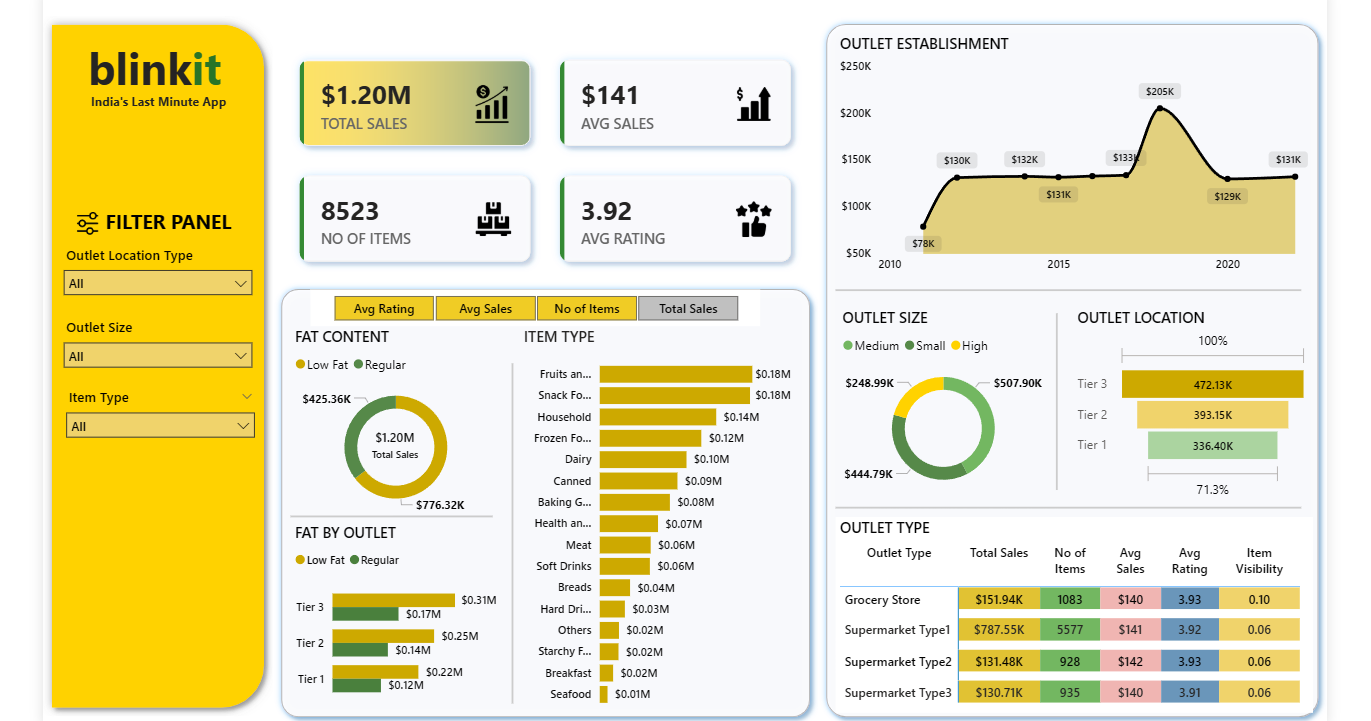

The dashboard page shown, as its layout file describes it:
{"tool":"powerbi","page":{"name":"Page 1","canvas":[1400,800],"ordinal":0},"visuals":[{"type":"shape","box":[0,26,250.7,764.4],"z":0},{"type":"textbox","box":[20.5,45,203.1,81.8],"z":1000},{"type":"textbox","box":[38.2,105,175.9,35.4],"z":2000},{"type":"cardVisual","fields":{"Data":["BlinkIT Grocery Data.Total Sales","BlinkIT Grocery Data.Avg Sales","BlinkIT Grocery Data.No of Items","BlinkIT Grocery Data.Avg Rating"]},"box":[250.7,45.2,594.5,279.5],"z":3000},{"type":"shape","box":[250.7,315.1,594.5,484.9],"z":4000},{"type":"donutChart","title":"FAT CONTENT","fields":{"Y":["BlinkIT Grocery Data.Total Sales"],"Category":["BlinkIT Grocery Data.Item Fat Content"]},"box":[269.9,364.4,230.1,213.7],"z":5000},{"type":"slicer","fields":{"Values":["Metrics.Metrics"]},"box":[291.8,324.7,490.4,39.7],"z":6000},{"type":"cardVisual","fields":{"Data":["BlinkIT Grocery Data.Total Sales"]},"box":[295.9,446.6,176.7,93.2],"z":7000},{"type":"clusteredBarChart","title":"FAT BY OUTLET","fields":{"Y":["BlinkIT Grocery Data.Total Sales"],"Category":["BlinkIT Grocery Data.Outlet Location Type"],"Series":["BlinkIT Grocery Data.Item Fat Content"]},"box":[269.9,578.1,230.1,208.2],"z":8000},{"type":"shape","box":[269.9,561.6,220.5,20.5],"z":9000},{"type":"shape","box":[490.4,405.5,42.5,371.2],"z":10000},{"type":"barChart","title":"ITEM TYPE","fields":{"Y":["BlinkIT Grocery Data.Total Sales"],"Category":["BlinkIT Grocery Data.Item Type"]},"box":[519.2,364.4,301.4,426],"z":11000},{"type":"shape","box":[845.2,26,554.8,774],"z":12000},{"type":"lineChart","title":"OUTLET ESTABLISHMENT","fields":{"Category":["BlinkIT Grocery Data.Outlet Establishment Year"],"Y":["BlinkIT Grocery Data.Total Sales"]},"box":[864.4,45.2,520.5,269.9],"z":13000},{"type":"shape","box":[864.4,315.1,508.2,20.5],"z":14000},{"type":"donutChart","title":"OUTLET SIZE","fields":{"Y":["BlinkIT Grocery Data.Total Sales"],"Category":["BlinkIT Grocery Data.Outlet Size"]},"box":[867.1,343.8,230.1,213.7],"z":15000},{"type":"shape","box":[1091.8,350.7,27.4,193.2],"z":16000},{"type":"funnel","title":"OUTLET LOCATION","fields":{"Y":["Sum(BlinkIT Grocery Data.Sales)"],"Category":["BlinkIT Grocery Data.Outlet Location Type"]},"box":[1123.3,343.8,261.6,213.7],"z":17000},{"type":"shape","box":[864.4,552.1,508.2,20.5],"z":18000},{"type":"pivotTable","title":"OUTLET TYPE","fields":{"Rows":["BlinkIT Grocery Data.Outlet Type"],"Values":["BlinkIT Grocery Data.Total Sales","BlinkIT Grocery Data.No of Items","BlinkIT Grocery Data.Avg Sales","BlinkIT Grocery Data.Avg Rating","Avg(BlinkIT Grocery Data.Item Visibility)"]},"box":[864.4,572.6,520.5,213.7],"z":19000},{"type":"slicer","fields":{"Values":["BlinkIT Grocery Data.Outlet Location Type"]},"box":[12.3,271.2,226,64.4],"z":20000},{"type":"slicer","fields":{"Values":["BlinkIT Grocery Data.Outlet Size"]},"box":[12.3,350.7,226,64.4],"z":21000},{"type":"slicer","fields":{"Values":["BlinkIT Grocery Data.Item Type"]},"box":[15.1,427.4,226,98.6],"z":22000},{"type":"textbox","box":[50.7,230.1,172.6,41.1],"z":23000},{"type":"image","box":[35.6,239.7,26,25],"z":24000}]}

Visuals, with their boxes on the page's 1400x800 design canvas (x1, y1, x2, y2). These are canvas units, not pixel positions in the 1371x721 screenshot, which may show the page scaled, cropped or inside an application window:
shape: box=[0, 26, 251, 790]
textbox: box=[20, 45, 224, 127]
textbox: box=[38, 105, 214, 140]
cardVisual - BlinkIT Grocery Data.Total Sales x BlinkIT Grocery Data.Avg Sales: box=[251, 45, 845, 325]
shape: box=[251, 315, 845, 800]
"FAT CONTENT" donutChart: box=[270, 364, 500, 578]
slicer - Metrics.Metrics: box=[292, 325, 782, 364]
cardVisual - BlinkIT Grocery Data.Total Sales: box=[296, 447, 473, 540]
"FAT BY OUTLET" clusteredBarChart: box=[270, 578, 500, 786]
shape: box=[270, 562, 490, 582]
shape: box=[490, 406, 533, 777]
"ITEM TYPE" barChart: box=[519, 364, 821, 790]
shape: box=[845, 26, 1400, 800]
"OUTLET ESTABLISHMENT" lineChart: box=[864, 45, 1385, 315]
shape: box=[864, 315, 1373, 336]
"OUTLET SIZE" donutChart: box=[867, 344, 1097, 558]
shape: box=[1092, 351, 1119, 544]
"OUTLET LOCATION" funnel: box=[1123, 344, 1385, 558]
shape: box=[864, 552, 1373, 573]
"OUTLET TYPE" pivotTable: box=[864, 573, 1385, 786]
slicer - BlinkIT Grocery Data.Outlet Location Type: box=[12, 271, 238, 336]
slicer - BlinkIT Grocery Data.Outlet Size: box=[12, 351, 238, 415]
slicer - BlinkIT Grocery Data.Item Type: box=[15, 427, 241, 526]
textbox: box=[51, 230, 223, 271]
image: box=[36, 240, 62, 265]
